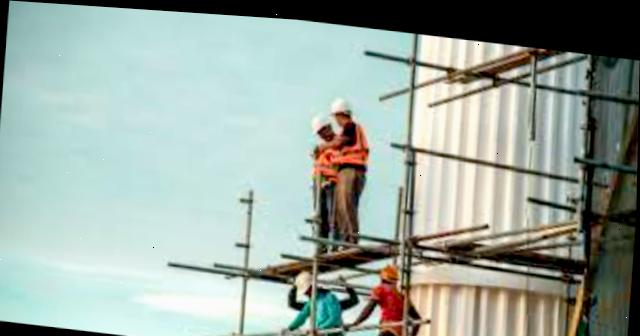helmet: (305, 105, 332, 129), (327, 88, 353, 110), (380, 253, 399, 277), (295, 264, 314, 285)
vest: (330, 111, 373, 163), (310, 128, 342, 175)
